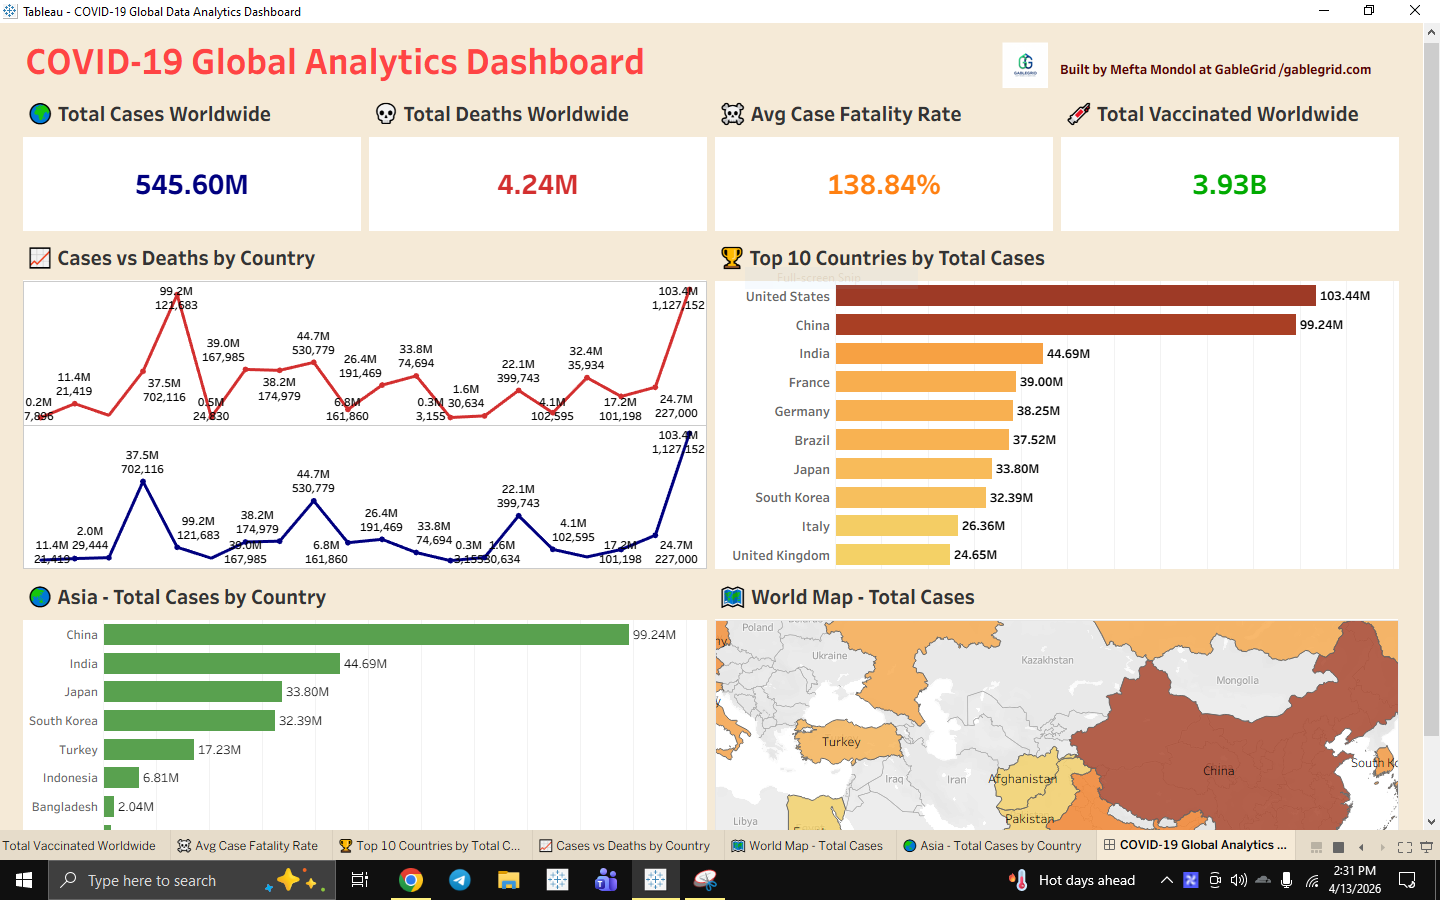

This screenshot's page, from the dashboard's own definition file:
{"tool":"tableau","page":{"name":"COVID-19 Global Analytics Dashboard Built by Mefta Mondol at GableGrid | gablegrid.com","canvas":[1400,900],"ordinal":0},"visuals":[{"type":"title","box":[8,8,1384,63]},{"type":"image","param":"G:/GableGrid/644211996_122103702729267880_4985545846425743487_n.jpg","box":[991,22,47,46]},{"type":"worksheet","title":"🌍 Total Cases Worldwide","mark":"Text","box":[8,71,346,144.5]},{"type":"worksheet","title":"💀 Total Deaths Worldwide","mark":"Text","box":[354,71,346,144.5]},{"type":"worksheet","title":"☠️ Avg Case Fatality Rate","mark":"Text","box":[700,71,346,144.5]},{"type":"worksheet","title":"💉 Total Vaccinated Worldwide","mark":"Automatic","box":[1046,71,346,144.5]},{"type":"worksheet","title":"📈 Cases vs Deaths by Country","mark":"Line","rows":["total_cases","total_deaths"],"cols":["country"],"box":[8,215.5,692,338.2]},{"type":"worksheet","title":"🏆 Top 10 Countries by Total Cases","mark":"Bar","rows":["country"],"cols":["total_cases"],"box":[700,215.5,692,338.2]},{"type":"worksheet","title":"🌏 Asia - Total Cases by Country","mark":"Bar","rows":["country"],"cols":["total_cases"],"box":[8,553.7,692,338.3]},{"type":"worksheet","title":"🗺️ World Map - Total Cases","mark":"Multipolygon","box":[700,553.7,692,338.3]}]}

Visuals, with their boxes on the page's 1400x900 design canvas (x1, y1, x2, y2). These are canvas units, not pixel positions in the 1440x900 screenshot, which may show the page scaled, cropped or inside an application window:
title: box=[8, 8, 1392, 71]
image: box=[991, 22, 1038, 68]
"🌍 Total Cases Worldwide" worksheet (Text marks): box=[8, 71, 354, 216]
"💀 Total Deaths Worldwide" worksheet (Text marks): box=[354, 71, 700, 216]
"☠️ Avg Case Fatality Rate" worksheet (Text marks): box=[700, 71, 1046, 216]
"💉 Total Vaccinated Worldwide" worksheet: box=[1046, 71, 1392, 216]
"📈 Cases vs Deaths by Country" worksheet (Line marks): box=[8, 216, 700, 554]
"🏆 Top 10 Countries by Total Cases" worksheet (Bar marks): box=[700, 216, 1392, 554]
"🌏 Asia - Total Cases by Country" worksheet (Bar marks): box=[8, 554, 700, 892]
"🗺️ World Map - Total Cases" worksheet (Multipolygon marks): box=[700, 554, 1392, 892]
